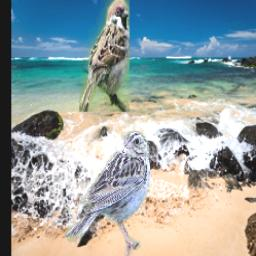Sparrow: (64, 131, 150, 256), (80, 0, 131, 113)
